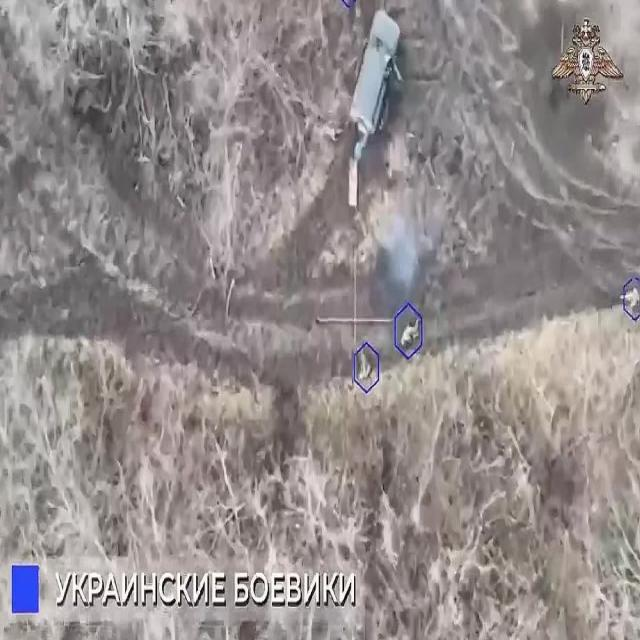cars: (350, 9, 402, 134)
